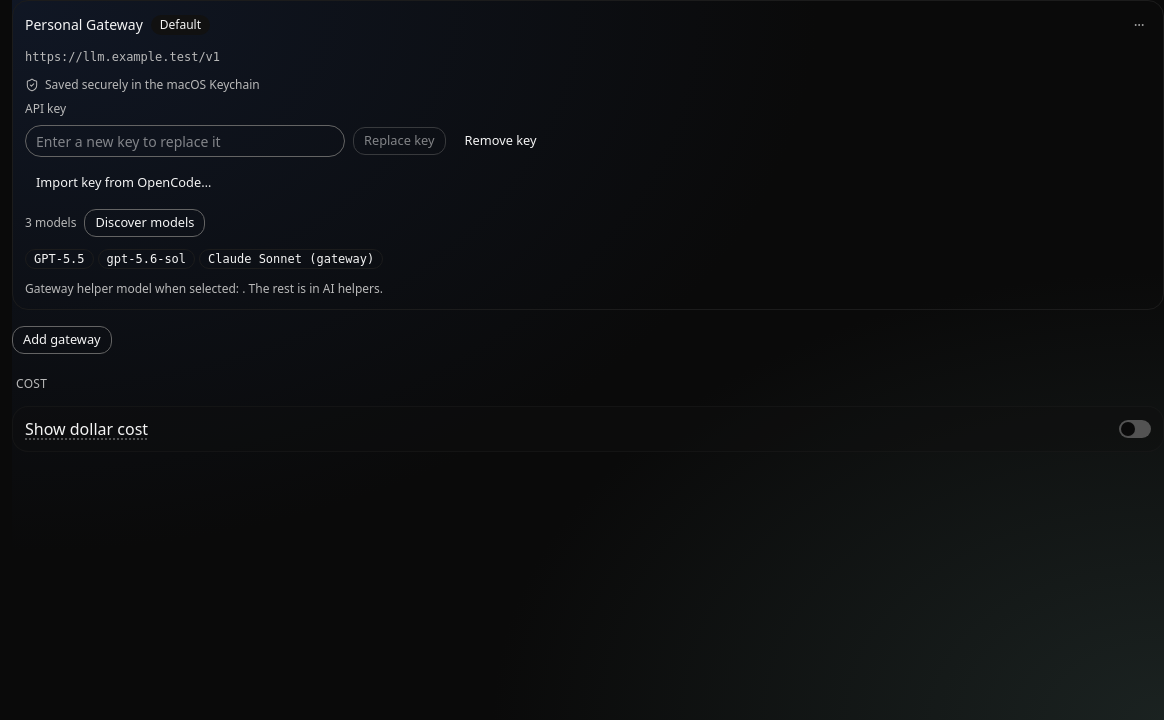
GatewaysSettings › shows a discovery error
Click the button "Discover models": (145, 223) [84, 209, 206, 237]
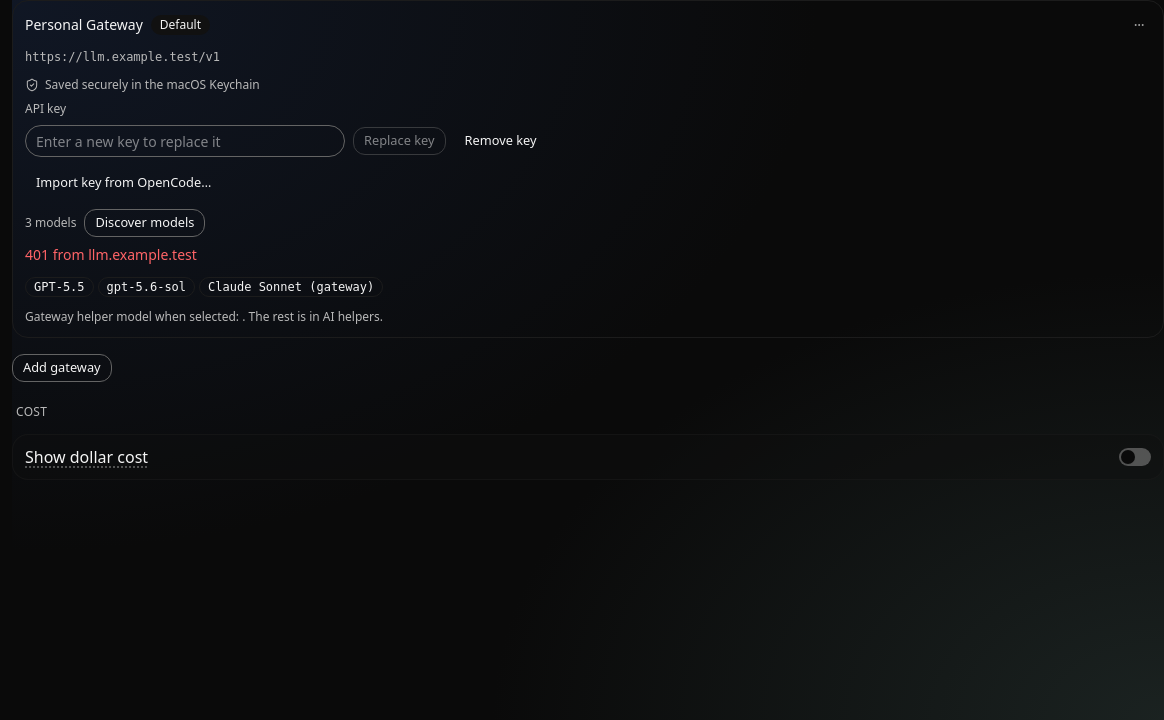
Check: the message reads "401 from llm.example.test", box [25, 245, 197, 264]
